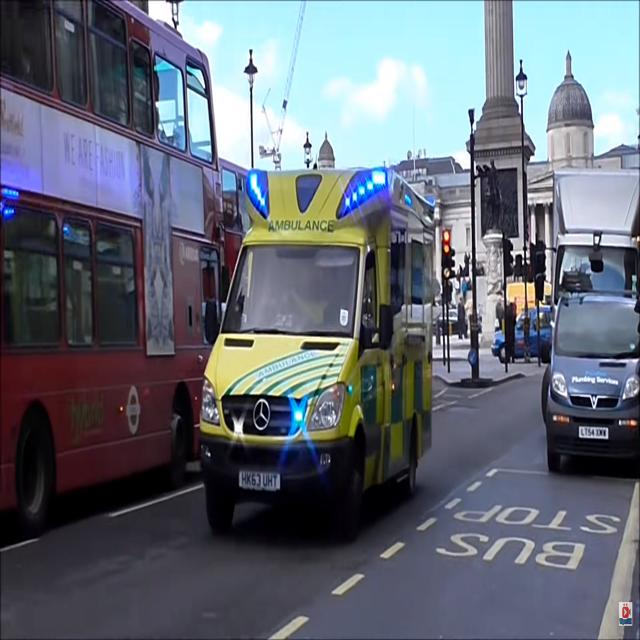emergency-vehicles: (195, 152, 448, 544)
